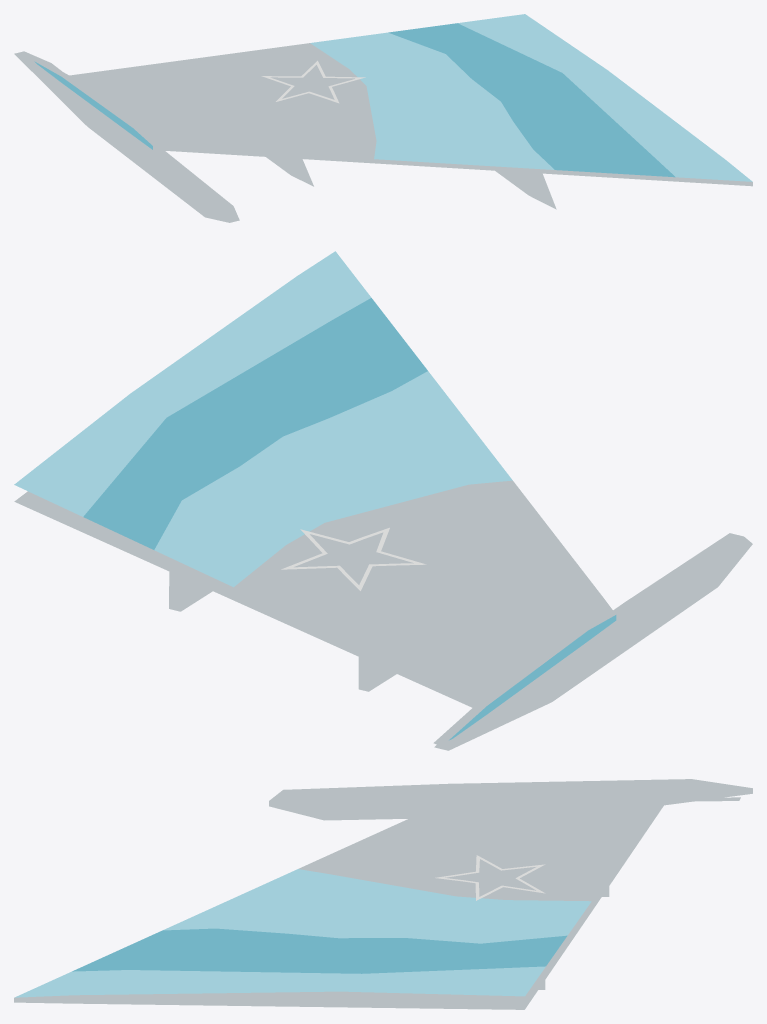
File: su33_surf_BWingRFold_fold.gltf
3 views of the same model, one above another, from view 1: azimuth 30°, elevation 25°; view 2: azimuth 150°, elevation 25°; view 3: azimuth 270°, elevation 25° (orthographic). The views are drawn at different scales.
Visible parts, largest first — view 1: 0_0_#bacdd8, 0_2_#73cdec, 0_1_#3396bb, 0_4_#eaebea; view 2: 0_0_#bacdd8, 0_2_#73cdec, 0_1_#3396bb, 0_4_#eaebea; view 3: 0_0_#bacdd8, 0_2_#73cdec, 0_1_#3396bb, 0_4_#eaebea.
Part boxes in pixels (x1,y1,x2,y2): 0_0_#bacdd8: [14, 43, 752, 222]; 0_2_#73cdec: [310, 14, 752, 181]; 0_1_#3396bb: [34, 23, 675, 177]; 0_4_#eaebea: [261, 60, 365, 103]; 0_0_#bacdd8: [14, 480, 752, 750]; 0_2_#73cdec: [14, 251, 512, 587]; 0_1_#3396bb: [83, 298, 616, 740]; 0_4_#eaebea: [281, 527, 426, 590]; 0_0_#bacdd8: [14, 779, 752, 1009]; 0_2_#73cdec: [15, 869, 591, 997]; 0_1_#3396bb: [72, 928, 567, 973]; 0_4_#eaebea: [435, 855, 545, 900].
Bounding box in the file's own units: 3.62 × 0.4779 × 5.04.
